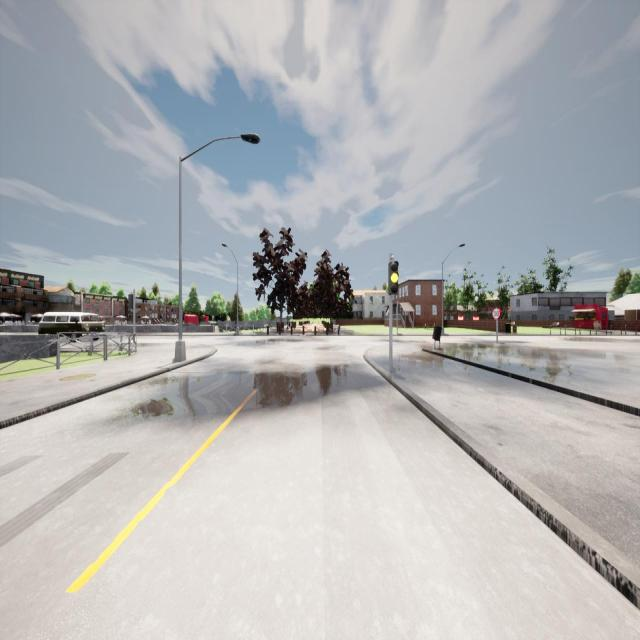Traffic_Signs: (492, 308, 502, 320)
Vehicle: (38, 312, 104, 342)
traffic_light: (389, 261, 399, 295), (129, 294, 133, 309), (398, 304, 401, 313)
